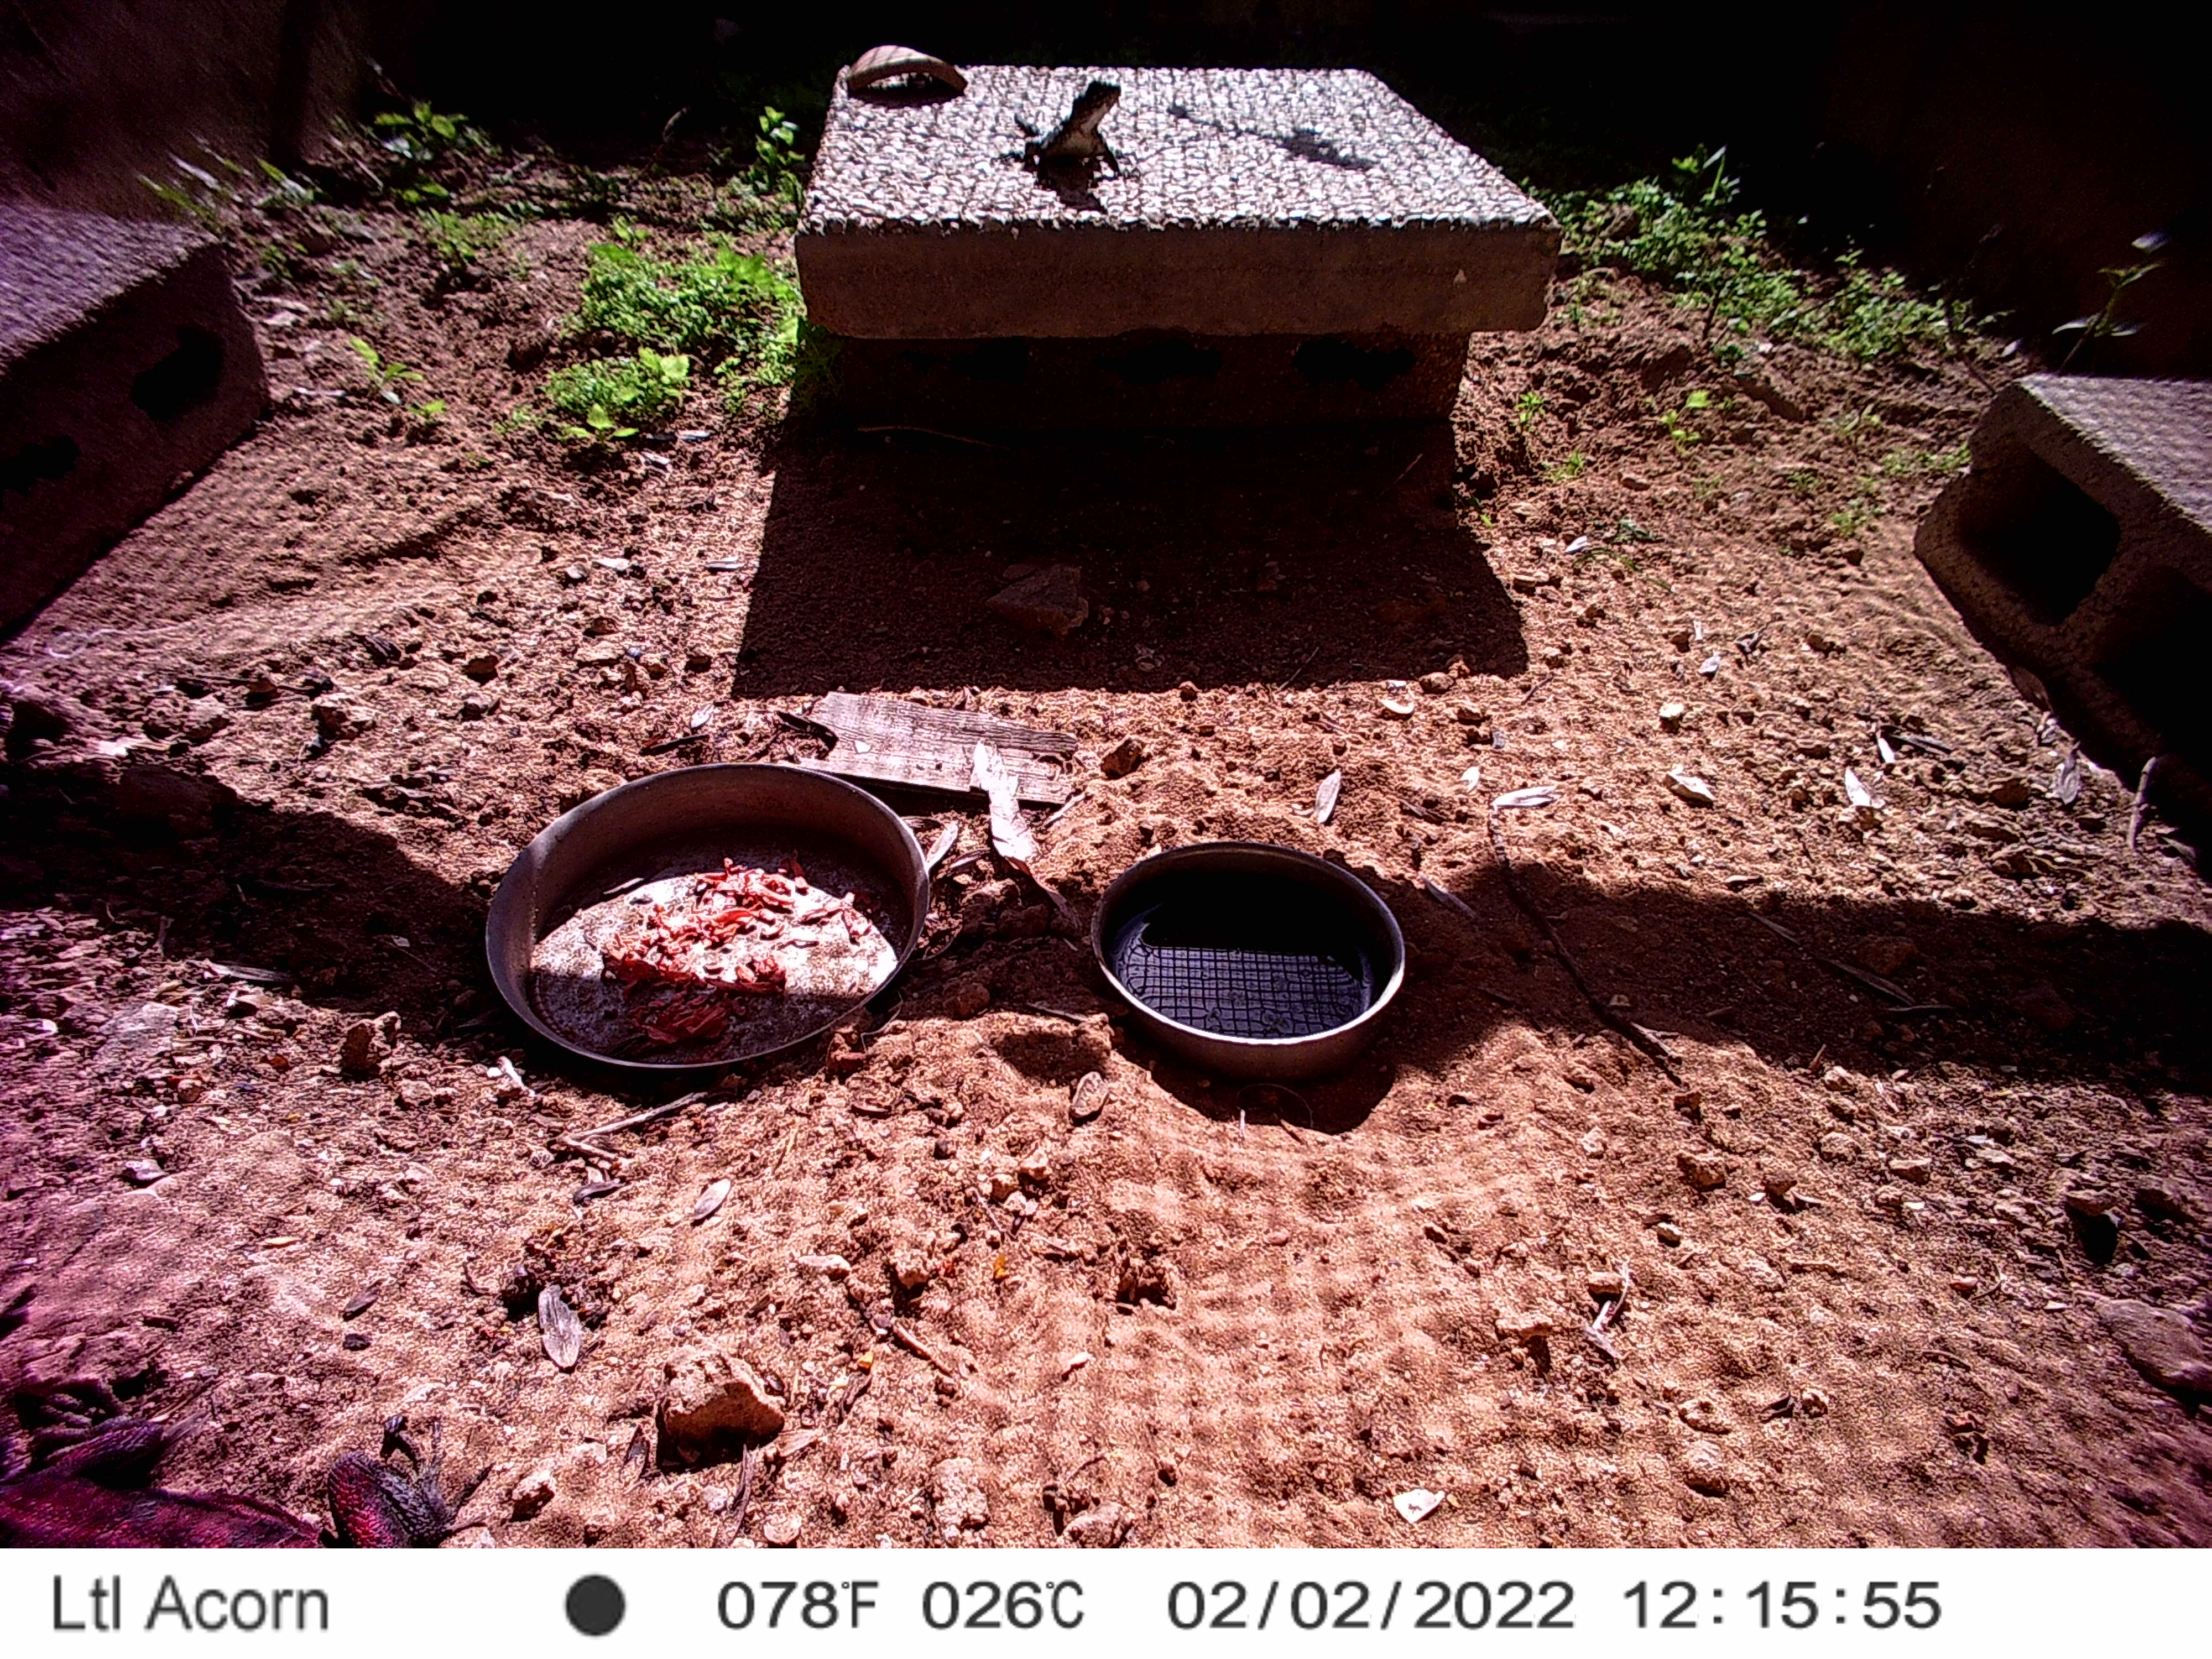lizard: (686, 164, 965, 305), (1564, 0, 1618, 59), (1289, 78, 1339, 132)
